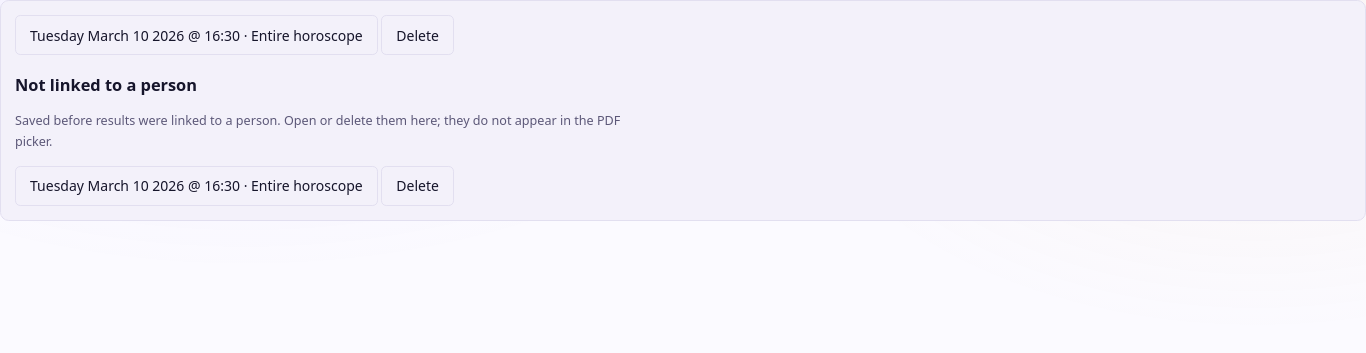
Scenario: SavedInterpretationsPanel: person scope (#768) › deletes an unlinked result from its section
Click the button "Delete" below "Not linked to a person" at coordinates (418, 186), box [381, 166, 454, 206]
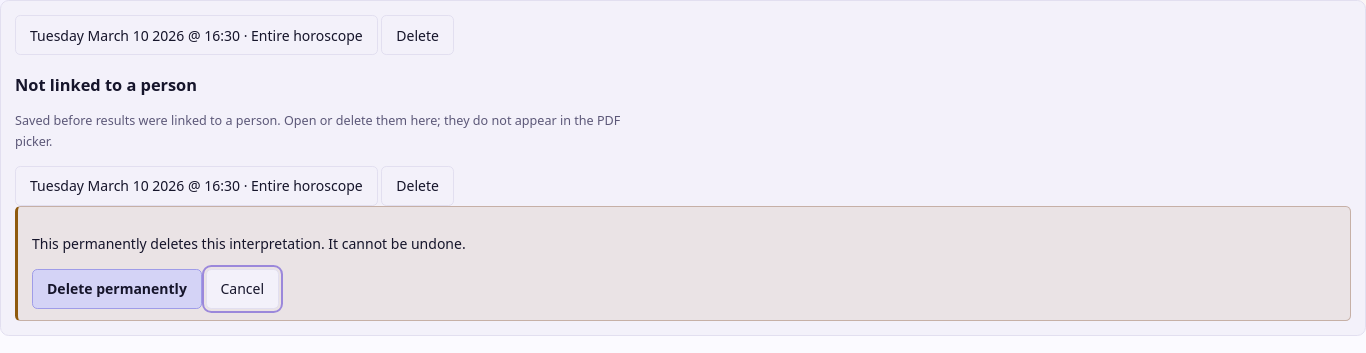
Click the button "Delete permanently" at coordinates (117, 289), box [32, 269, 202, 309]
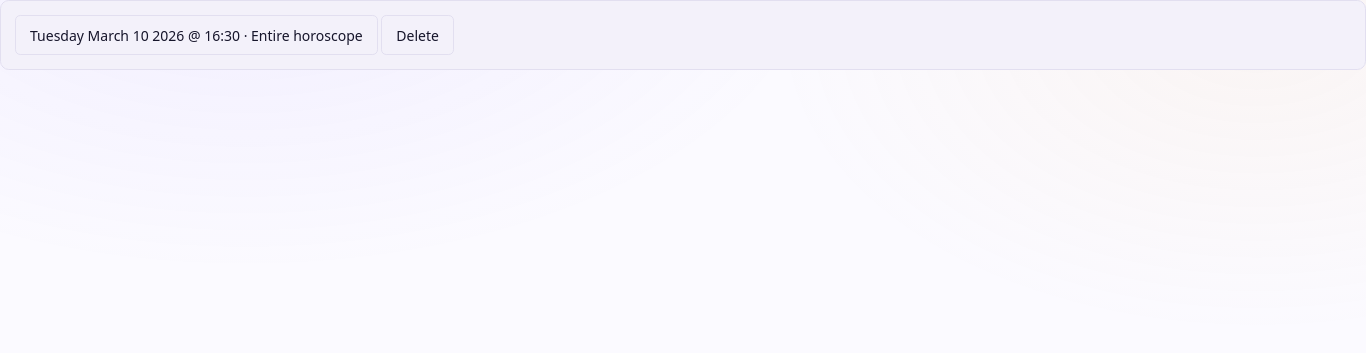
Now the element with class "saved-interpretations-unlinked" is gone
